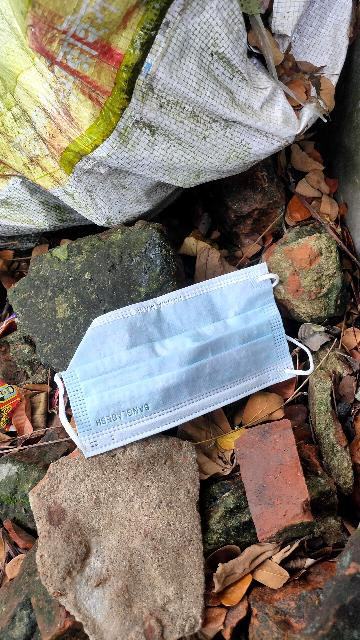mask: (37, 254, 325, 454)
